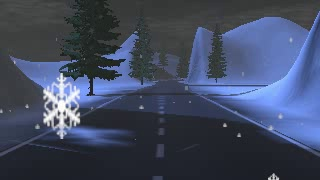Lane: (1, 80, 319, 179)
